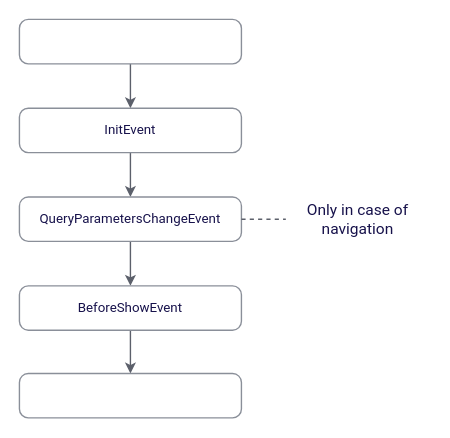
Image size: 450x438. Some labels were removed from this diagram. The shapes that lost their labels are listed below. From the top down, each one's centre as x and y in pixels, then its label:
the point at 130,41: Constructor
the point at 130,395: ReadyEvent
